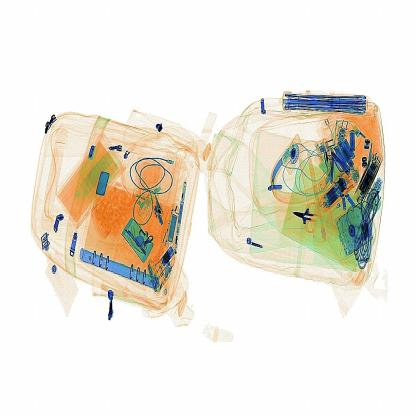gun: (290, 196, 324, 239)
